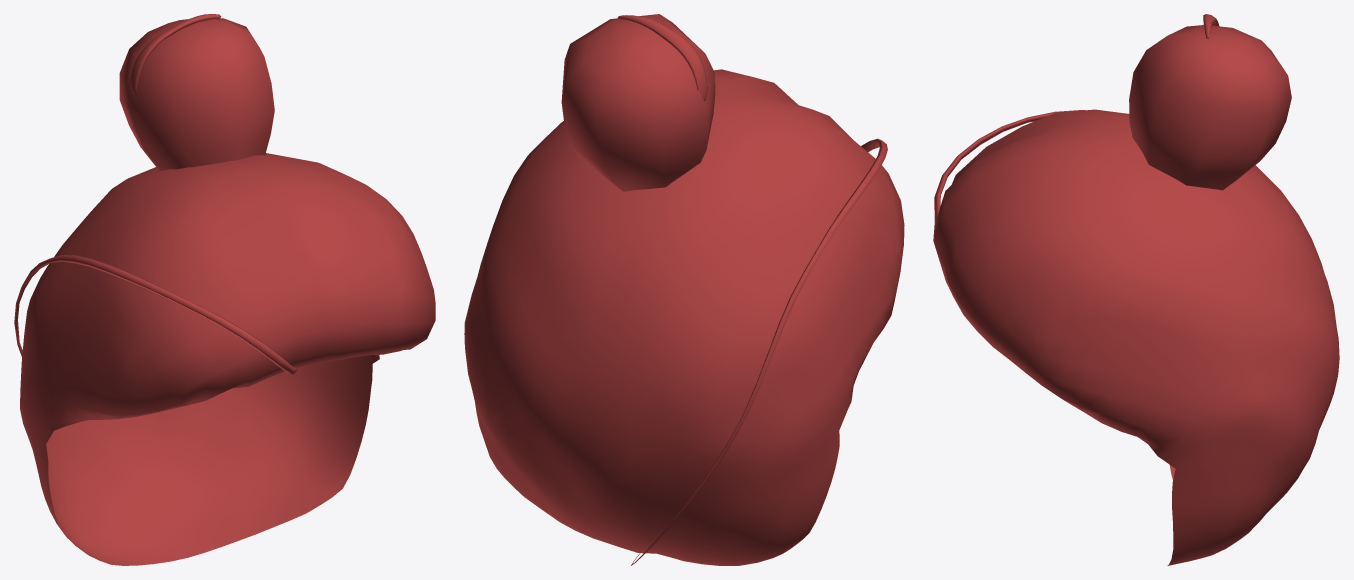
Rendered from Girl Hair 11.glb.
3 views of the same model, side by side, from view 1: azimuth 30°, elevation 25°; view 2: azimuth 150°, elevation 25°; view 3: azimuth 270°, elevation 25° (orthographic). The views are drawn at different scales.
Visible parts, largest first — view 1: GirlHair11; view 2: GirlHair11; view 3: GirlHair11.
Part boxes in pixels (box(x1,y1,x2,y2)): GirlHair11: box(14, 14, 435, 565); GirlHair11: box(464, 14, 904, 565); GirlHair11: box(933, 14, 1339, 565).
Size of the model in its own units: 0.00902 by 0.0131 by 0.00931.
